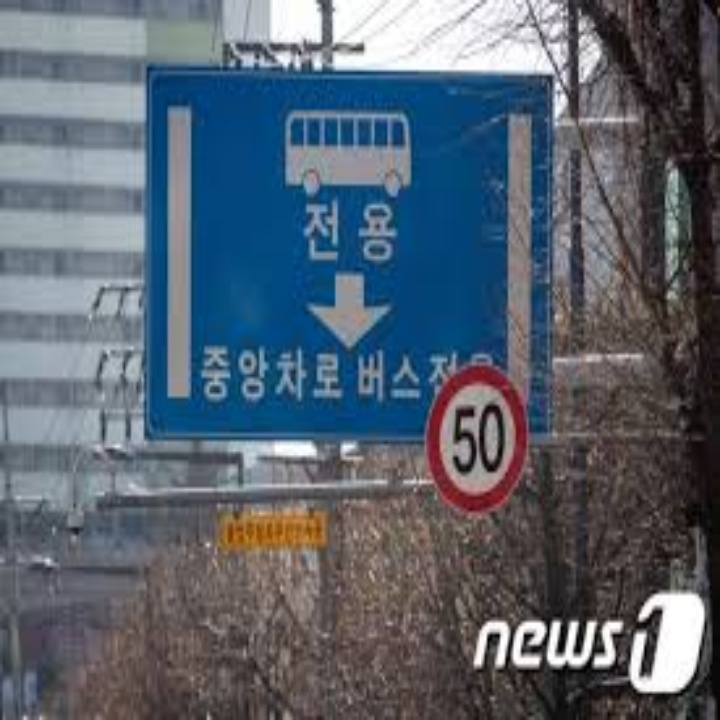bus: (273, 103, 424, 199)
